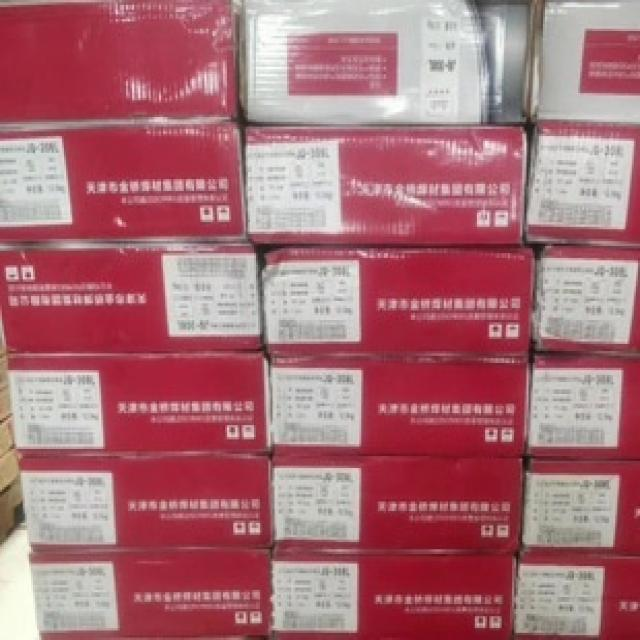box: (239, 0, 529, 124), (246, 127, 529, 244), (0, 122, 246, 246), (0, 0, 239, 127), (262, 246, 537, 356), (0, 244, 264, 353), (266, 356, 531, 459), (6, 353, 270, 454), (19, 456, 270, 552), (273, 456, 522, 549), (266, 552, 520, 640), (29, 549, 266, 640), (526, 124, 640, 248), (531, 0, 640, 124), (524, 356, 640, 459), (518, 461, 640, 556), (533, 246, 640, 351), (510, 559, 640, 640)
